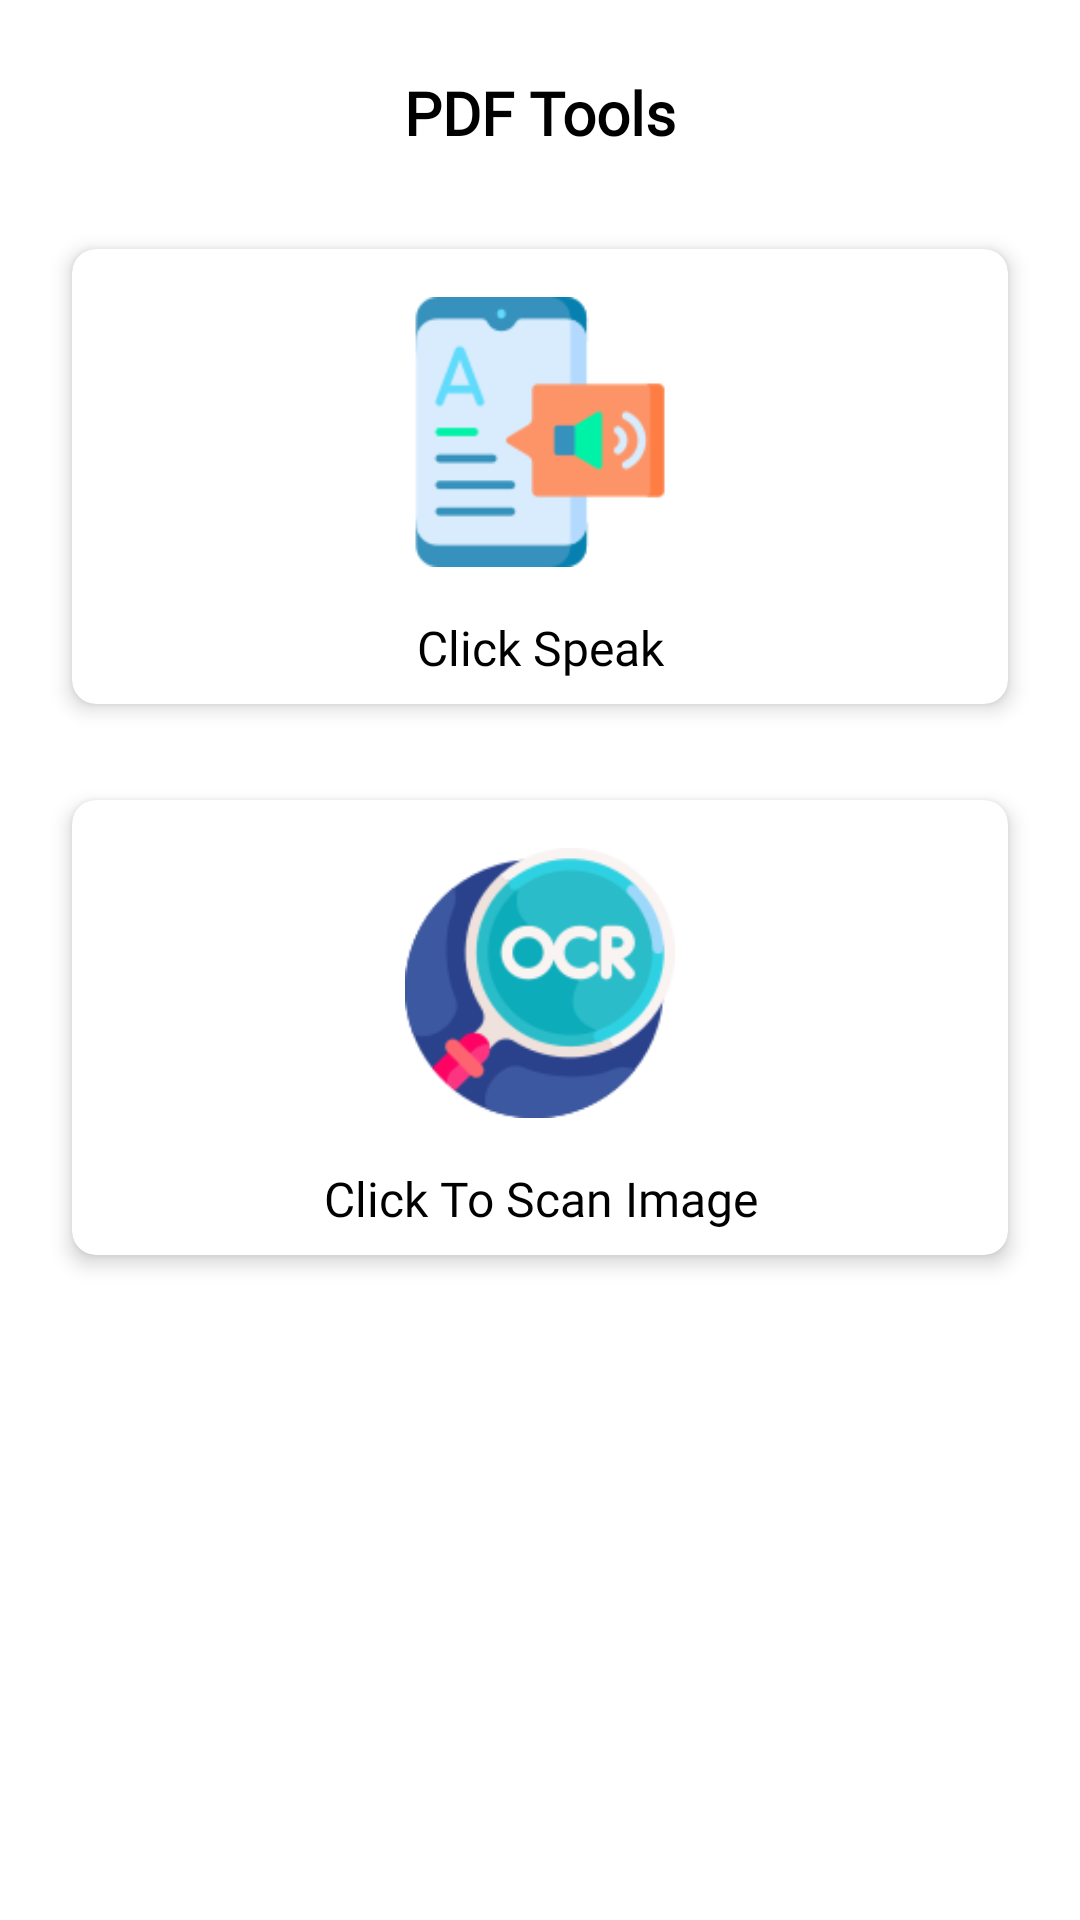

Named icons in this screenshot (1080px×1920px) and their centers, (x,y):
ocr: (535,988)
